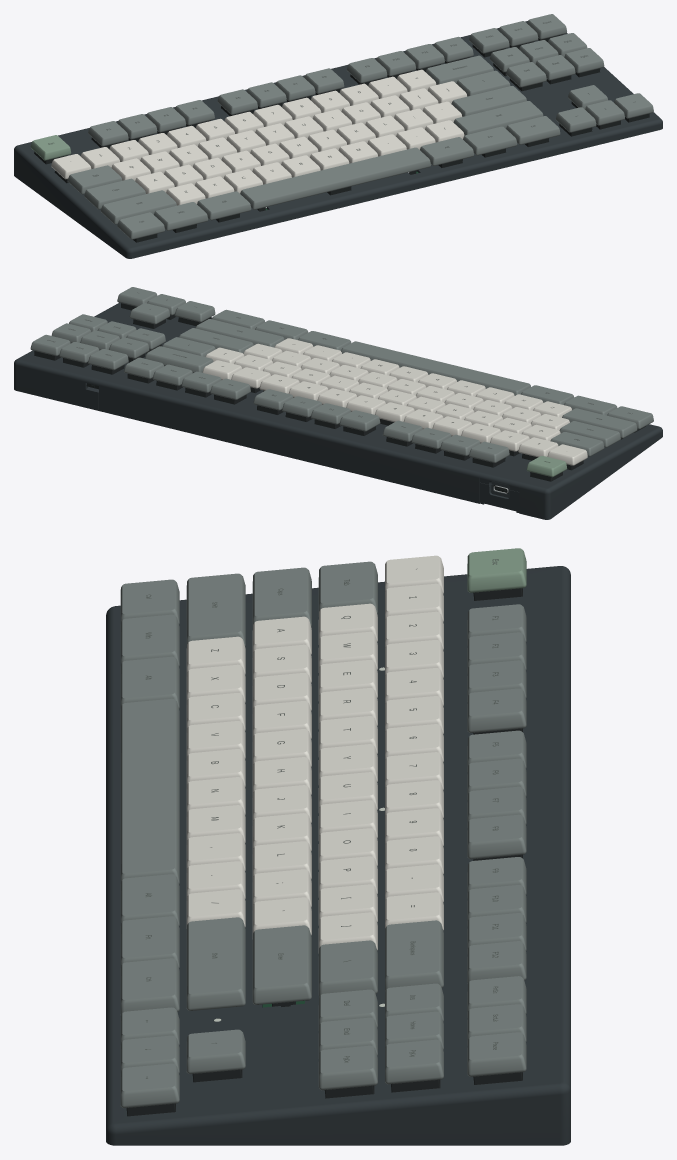
Rendered from v10-assembled.glb.
3 renders of one model, top to bottom at view 1: azimuth 30°, elevation 25°; view 2: azimuth 150°, elevation 25°; view 3: azimuth 270°, elevation 25°, orthographic. The views are drawn at different scales.
Visible parts, largest first — view 1: upper, SW79 Space — illustrative keycap, SW70 Shift — illustrative keycap, SW64 Shift — illustrative keycap, SW57 Enter — illustrative keycap, SW31 Backspace — illustrative keycap, SW51 Caps — illustrative keycap, SW83 Win — illustrative keycap, SW78 Alt — illustrative keycap, SW84 Alt — illustrative keycap, SW80 Fn — illustrative keycap, SW81 Ctrl — illustrative keycap (+75 smaller); view 2: upper, SW79 Space — illustrative keycap, SW70 Shift — illustrative keycap, SW31 Backspace — illustrative keycap, SW64 Shift — illustrative keycap, SW57 Enter — illustrative keycap, SW51 Caps — illustrative keycap, bezel, SW34 Tab — illustrative keycap, SW11 F5 — illustrative keycap, SW76 ↑ — illustrative keycap, SW2 F1 — illustrative keycap (+77 smaller); view 3: upper, SW79 Space — illustrative keycap, SW70 Shift — illustrative keycap, SW57 Enter — illustrative keycap, SW64 Shift — illustrative keycap, SW31 Backspace — illustrative keycap, SW51 Caps — illustrative keycap, SW81 Ctrl — illustrative keycap, SW41 \ — illustrative keycap, SW80 Fn — illustrative keycap, SW84 Alt — illustrative keycap, SW34 Tab — illustrative keycap (+75 smaller).
Boxes of the visible parts, x1,y1,x2,y2 form: upper: [14, 21, 662, 258]; SW79 Space — illustrative keycap: [240, 147, 430, 209]; SW70 Shift — illustrative keycap: [453, 101, 543, 135]; SW64 Shift — illustrative keycap: [100, 190, 176, 224]; SW57 Enter — illustrative keycap: [451, 86, 526, 116]; SW31 Backspace — illustrative keycap: [426, 55, 493, 84]; SW51 Caps — illustrative keycap: [84, 178, 145, 209]; SW83 Win — illustrative keycap: [154, 202, 208, 230]; SW78 Alt — illustrative keycap: [197, 191, 251, 220]; SW84 Alt — illustrative keycap: [420, 137, 474, 165]; SW80 Fn — illustrative keycap: [463, 126, 517, 155]; SW81 Ctrl — illustrative keycap: [506, 116, 560, 144]; upper: [14, 302, 662, 519]; SW79 Space — illustrative keycap: [341, 341, 530, 395]; SW70 Shift — illustrative keycap: [195, 319, 284, 347]; SW31 Backspace — illustrative keycap: [145, 346, 213, 372]; SW64 Shift — illustrative keycap: [562, 408, 637, 438]; SW57 Enter — illustrative keycap: [179, 328, 253, 353]; SW51 Caps — illustrative keycap: [559, 421, 620, 447]; bezel: [480, 482, 519, 511]; SW34 Tab — illustrative keycap: [550, 432, 604, 456]; SW11 F5 — illustrative keycap: [339, 410, 380, 431]; SW76 ↑ — illustrative keycap: [129, 303, 169, 324]; SW2 F1 — illustrative keycap: [469, 441, 509, 462]; upper: [106, 566, 570, 1145]; SW79 Space — illustrative keycap: [120, 698, 179, 883]; SW70 Shift — illustrative keycap: [186, 917, 245, 1010]; SW57 Enter — illustrative keycap: [252, 925, 311, 1004]; SW64 Shift — illustrative keycap: [186, 573, 245, 647]; SW31 Backspace — illustrative keycap: [385, 920, 443, 990]; SW51 Caps — illustrative keycap: [252, 567, 311, 630]; SW81 Ctrl — illustrative keycap: [120, 958, 179, 1014]; SW41 \ — illustrative keycap: [318, 940, 377, 996]; SW80 Fn — illustrative keycap: [120, 916, 179, 968]; SW84 Alt — illustrative keycap: [120, 874, 179, 925]; SW34 Tab — illustrative keycap: [318, 561, 377, 616].
Bounding box in the file's own units: 356 × 26.03 × 133.
Materials: 98 (85 with a texture image).
